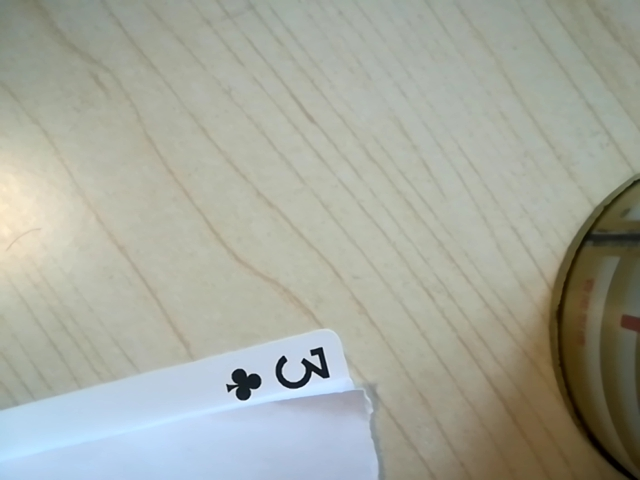mh 3: (211, 338, 348, 408)
